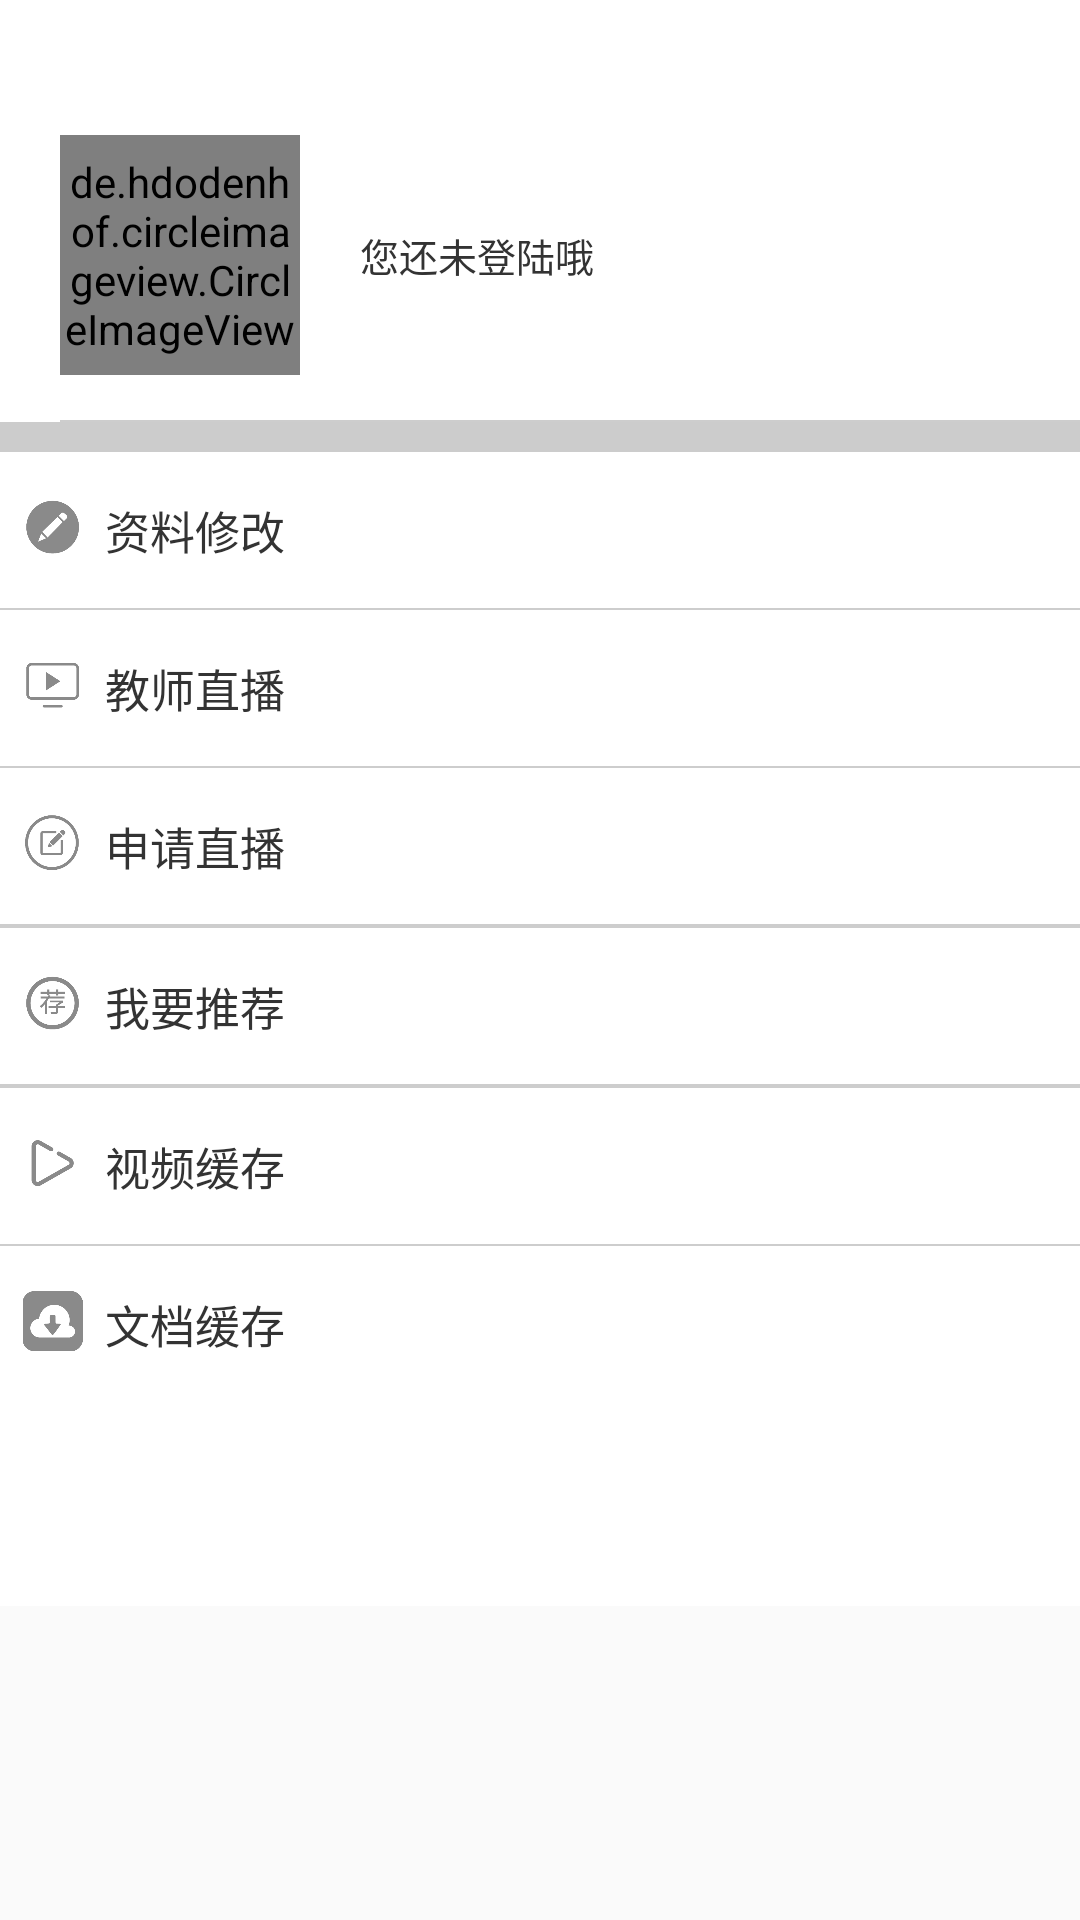

Named icons in this screenshot (1080w x 1920h) and their centers, [x,y]:
kaishizhibo: [52,685]
shenqingzhibo: [52,842]
shipinhuancunttt: [52,1163]
xiugai: [52,527]
